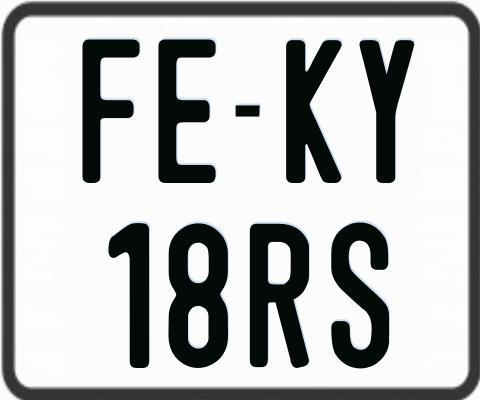1: (107, 223, 150, 372)
8: (167, 222, 229, 372)
E: (156, 39, 215, 188)
F: (82, 37, 145, 182)
K: (284, 40, 343, 186)
R: (250, 224, 315, 372)
S: (330, 220, 394, 367)
Y: (359, 39, 416, 187)
